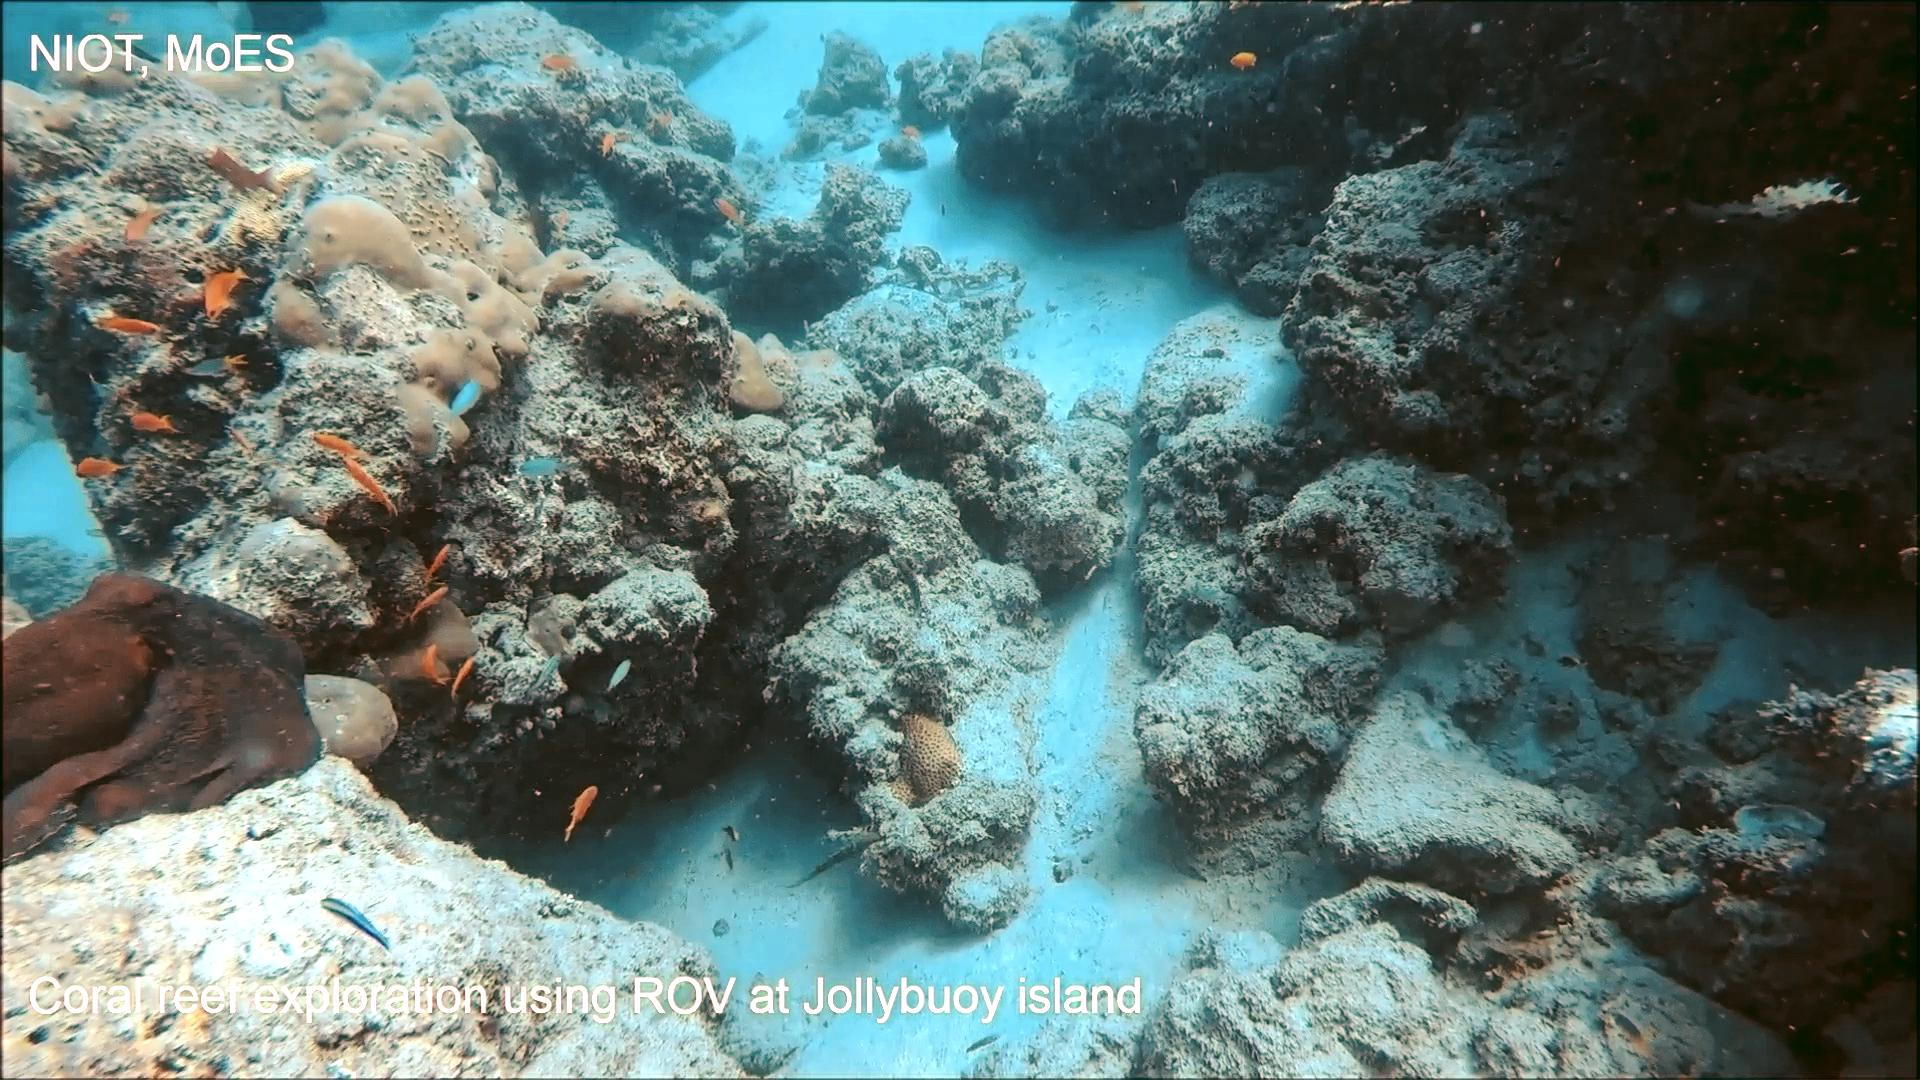Porites-Porites pukoensis: (247, 29, 611, 479)
